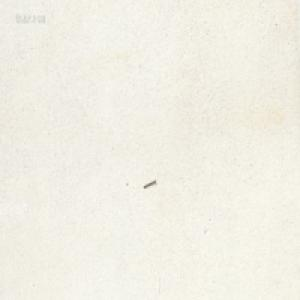Bolt: (142, 177, 156, 188)
